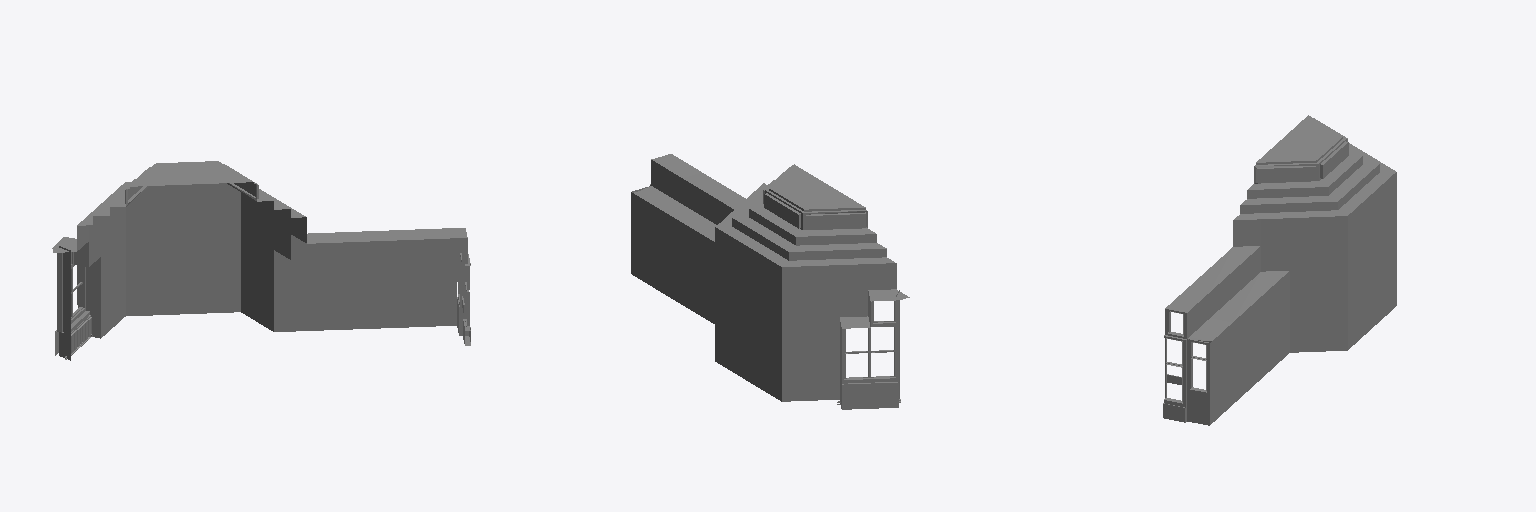
File: murenrechts.obj
The picture shows the model from 3 angles: view 1: azimuth 30°, elevation 25°; view 2: azimuth 150°, elevation 25°; view 3: azimuth 270°, elevation 25°; orthographic projection.
Parts seen in each view (by area): view 1: murenrechts002; view 2: murenrechts002; view 3: murenrechts002.
Boxes of the visible parts, <box> form: murenrechts002: <box>52,161,470,360</box>; murenrechts002: <box>631,154,909,409</box>; murenrechts002: <box>1163,115,1396,425</box>.
Bounding box in the file's own units: 10.31 × 4.93 × 6.04.